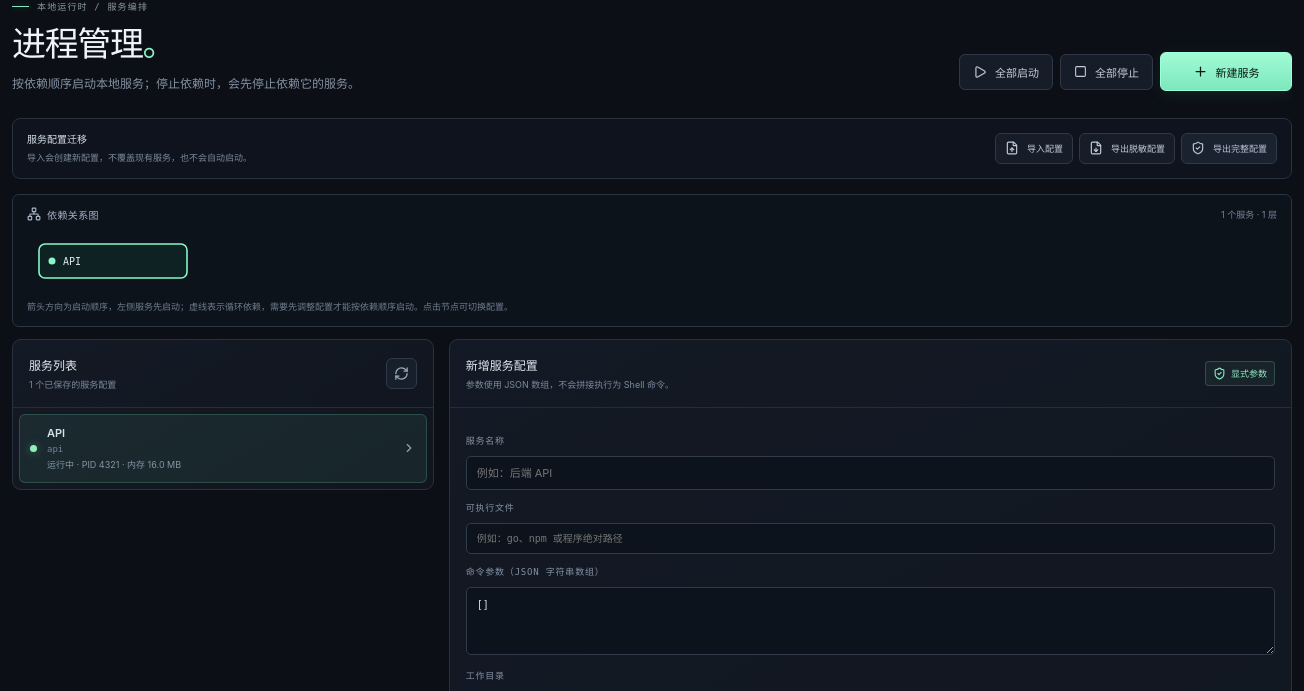
Test: process management › renders the resource history sparkline for the selected service
The image size is (1304, 691).
Step 1. Click the button "API api 运行中 · PID 4321 · 内存 16.0 MB" → (97, 464), box [19,414,427,483]
(page scrolled)
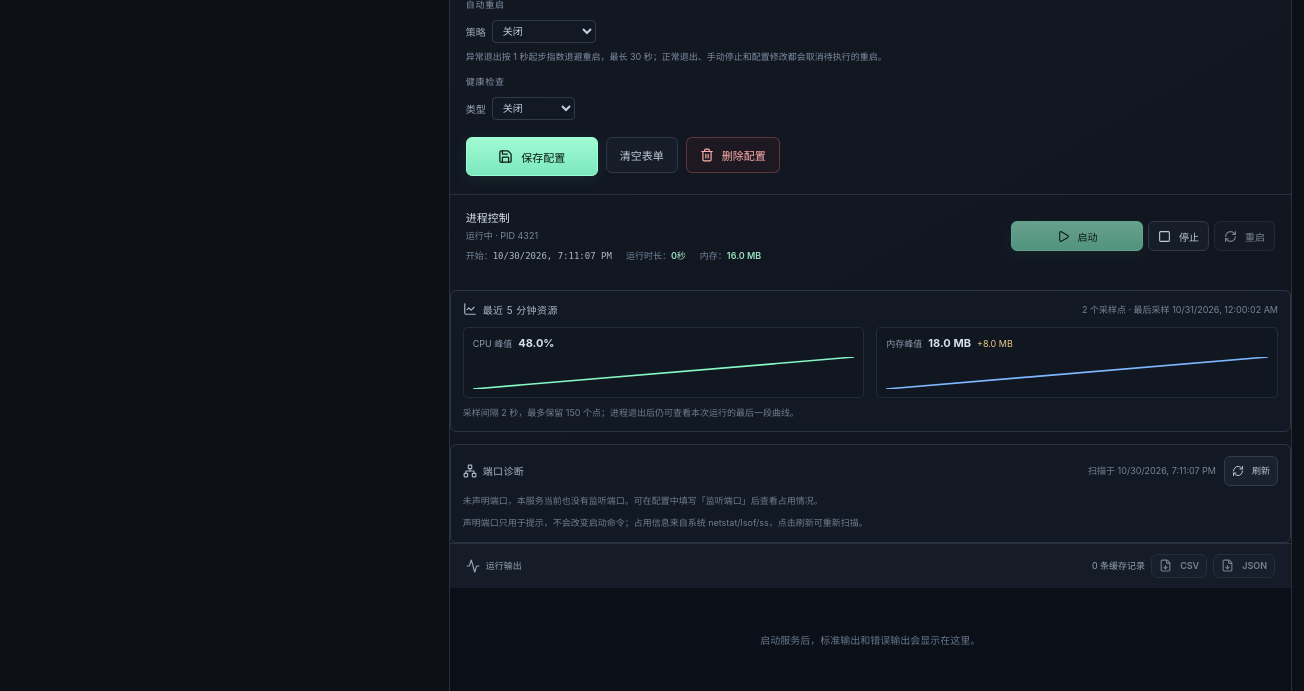
Now the element with class "resource-history-head" shows "2 个采样点", box [1082,304,1126,315]
Now the number of elements with class "resource-chart" is 2, box [463,327,864,398]; [876,327,1278,398]
Now the element with class "resource-chart" reads "CPU 峰值 48.0%", box [463,327,864,398]
